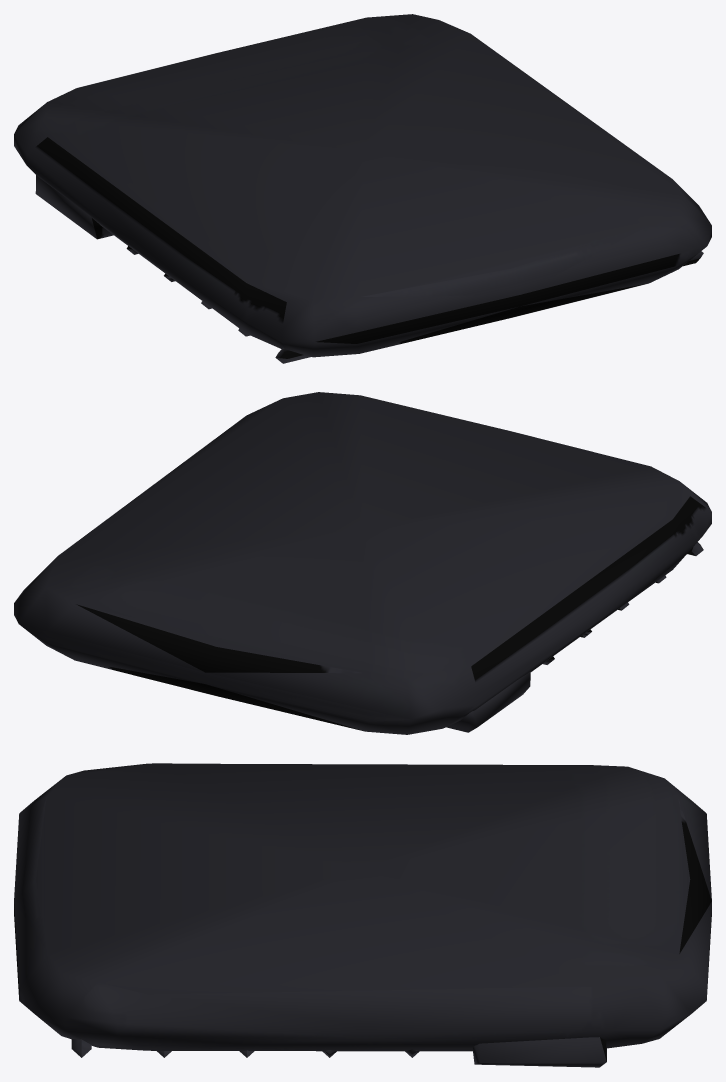
Rendered from Tano_BotaIzq_Negro.fbx.
3 renders of one model, top to bottom at view 1: azimuth 30°, elevation 25°; view 2: azimuth 150°, elevation 25°; view 3: azimuth 270°, elevation 25°, orthographic. The views are drawn at different scales.
Visible parts, largest first — view 1: Tano_BotaIzq_Negro; view 2: Tano_BotaIzq_Negro; view 3: Tano_BotaIzq_Negro.
Boxes of the visible parts, x1,y1,x2,y2 form: Tano_BotaIzq_Negro: [14, 14, 711, 363]; Tano_BotaIzq_Negro: [14, 392, 711, 734]; Tano_BotaIzq_Negro: [14, 763, 711, 1067].
Size of the model in its own units: 1.27 by 0.1964 by 1.51.
